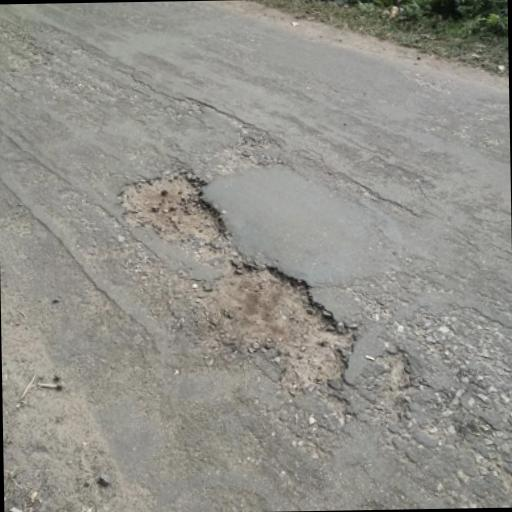pothole: (190, 260, 356, 388), (111, 163, 234, 252), (372, 350, 414, 394)
